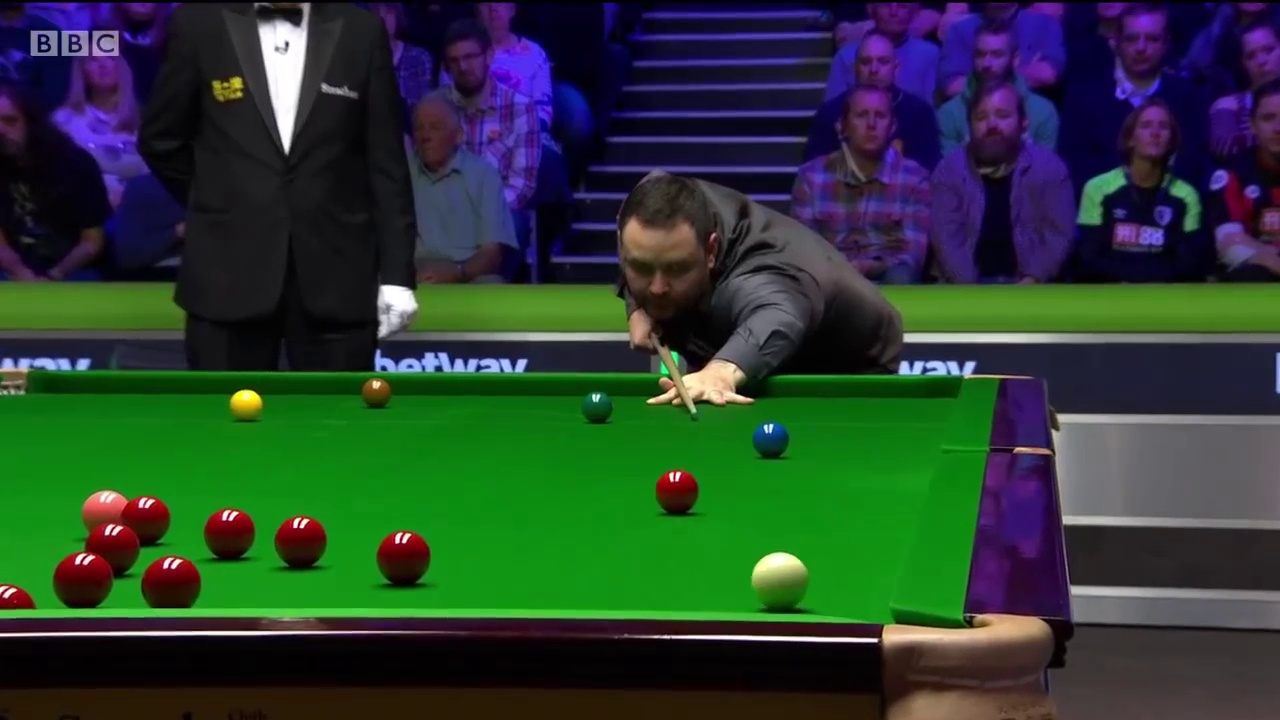ball: (750, 548, 809, 610), (53, 551, 113, 611), (274, 515, 327, 568), (377, 531, 430, 579), (206, 507, 255, 556), (654, 470, 698, 510), (753, 417, 790, 457), (580, 389, 613, 422), (229, 389, 260, 420), (361, 376, 390, 406)
